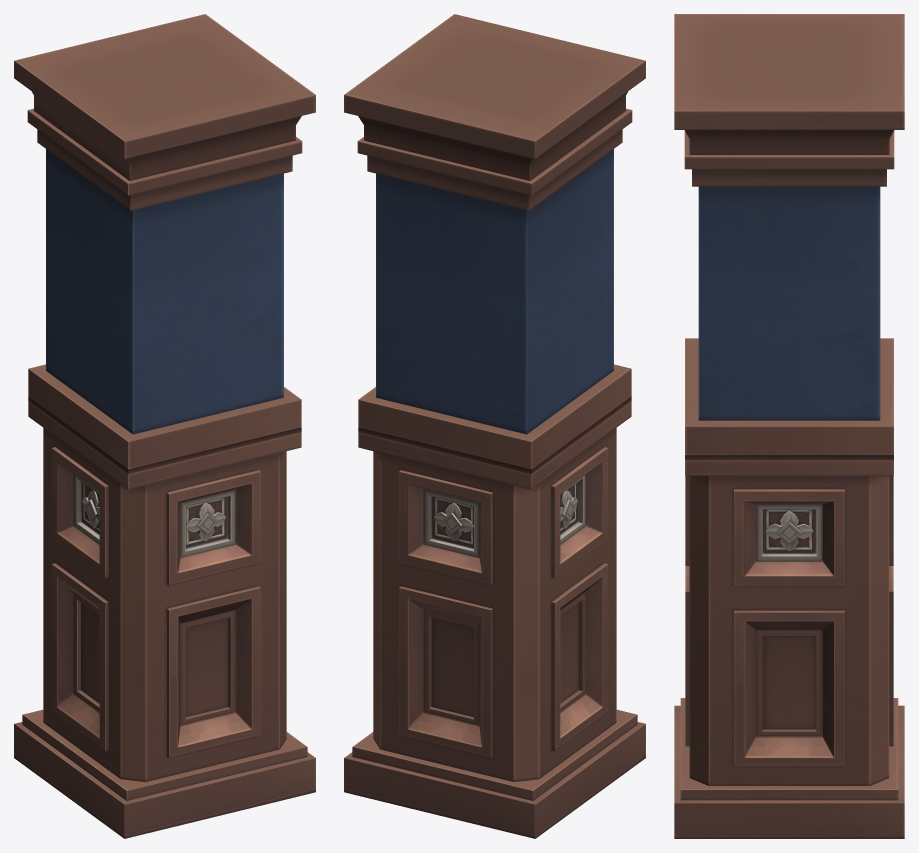
File: my_wildhunt_01_partition_02.glb
3 renders of one model, left to right at view 1: azimuth 30°, elevation 25°; view 2: azimuth 150°, elevation 25°; view 3: azimuth 270°, elevation 25°, orthographic. The views are drawn at different scales.
Parts seen in each view (by area): view 1: my_wildhunt_01_partition_02; view 2: my_wildhunt_01_partition_02; view 3: my_wildhunt_01_partition_02.
Part boxes in pixels (x1=…): my_wildhunt_01_partition_02: x1=14, y1=14, x2=315, y2=838; my_wildhunt_01_partition_02: x1=344, y1=14, x2=645, y2=838; my_wildhunt_01_partition_02: x1=674, y1=14, x2=904, y2=838.
Bounding box in the file's own units: 0.006 × 0.0209 × 0.006.
Materials: 1 (1 with a texture image).
